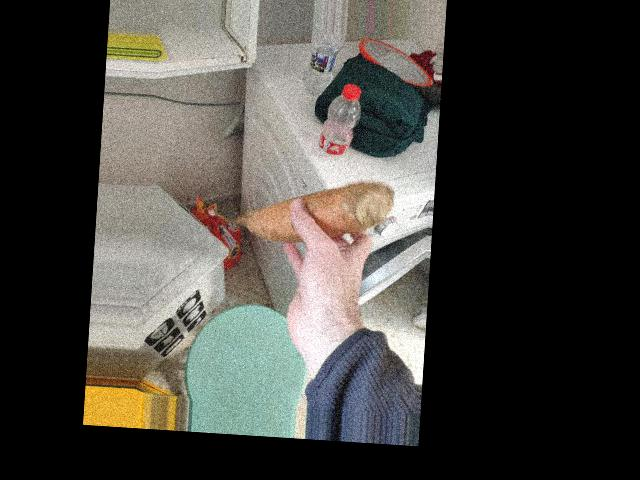sweet_potato: (230, 182, 392, 238)
